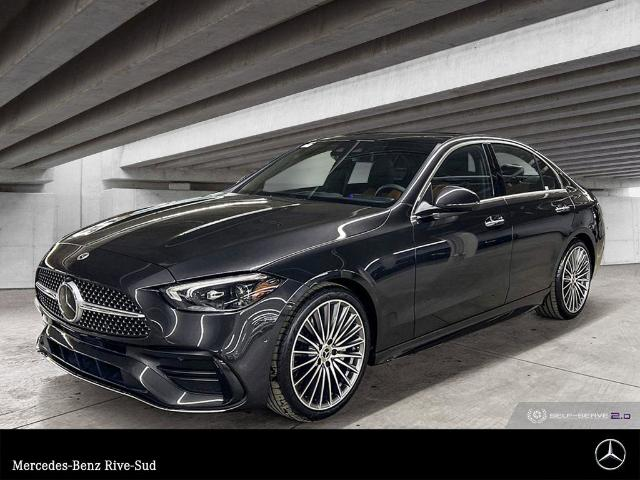benz: (33, 130, 607, 424)
